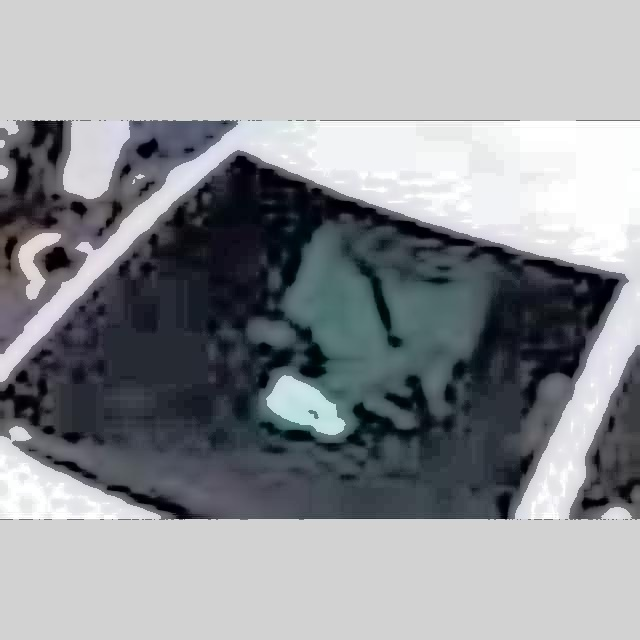pakai: (248, 225, 470, 421)
